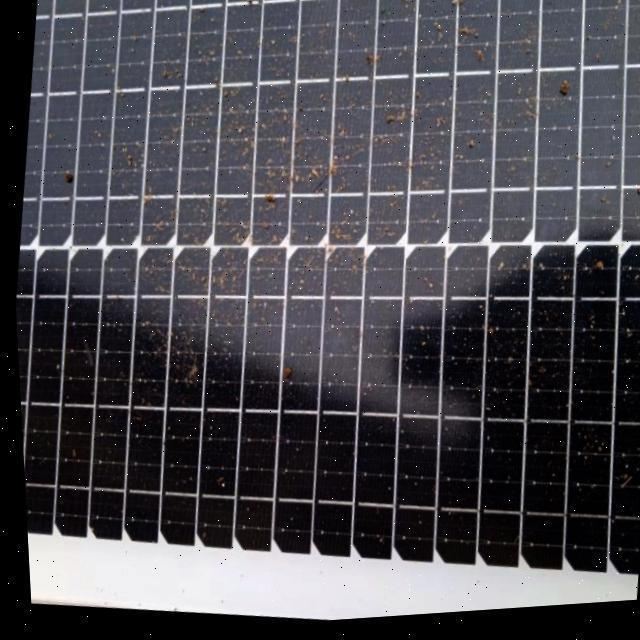Surface Contaminant: (15, 0, 640, 592)
